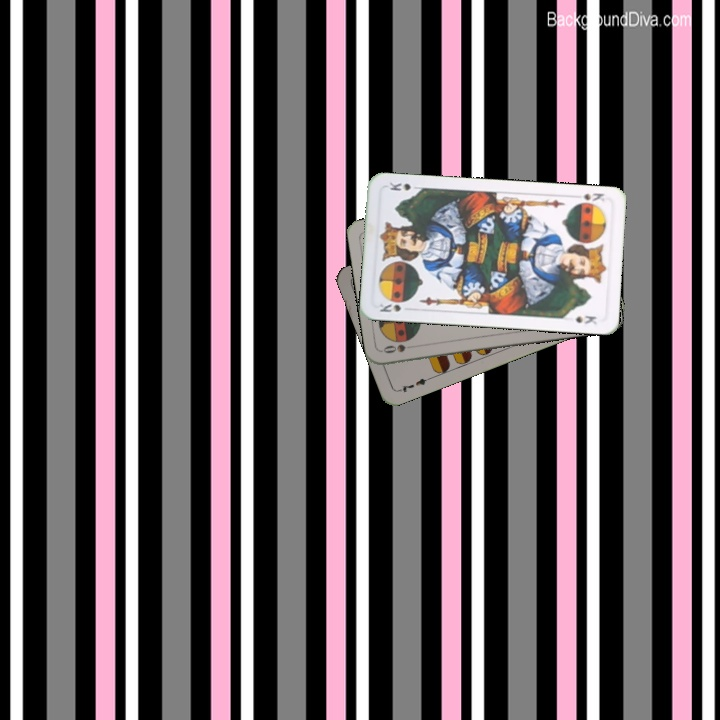E7: (395, 373, 434, 395)
SK: (571, 189, 607, 209), (374, 297, 408, 315)
SO: (379, 340, 420, 356)
